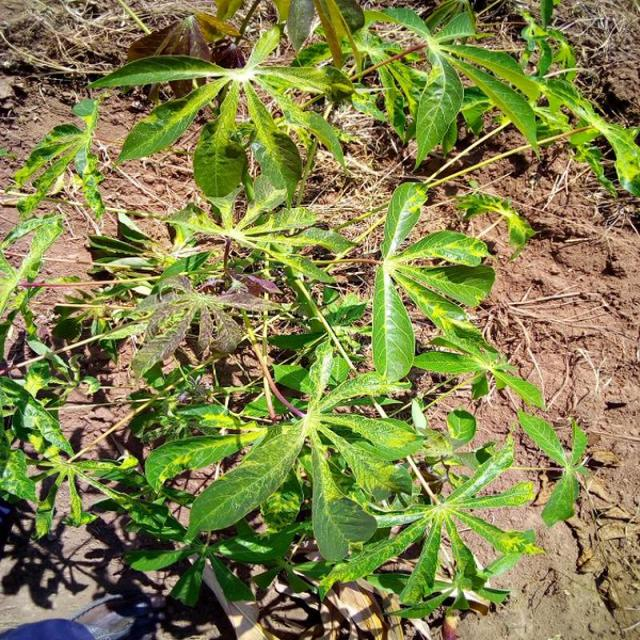Mosaico: (178, 364, 406, 528), (145, 35, 342, 179), (365, 444, 539, 590), (182, 160, 350, 285), (26, 83, 119, 229)
